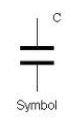Capacitor: (15, 39, 57, 69)
